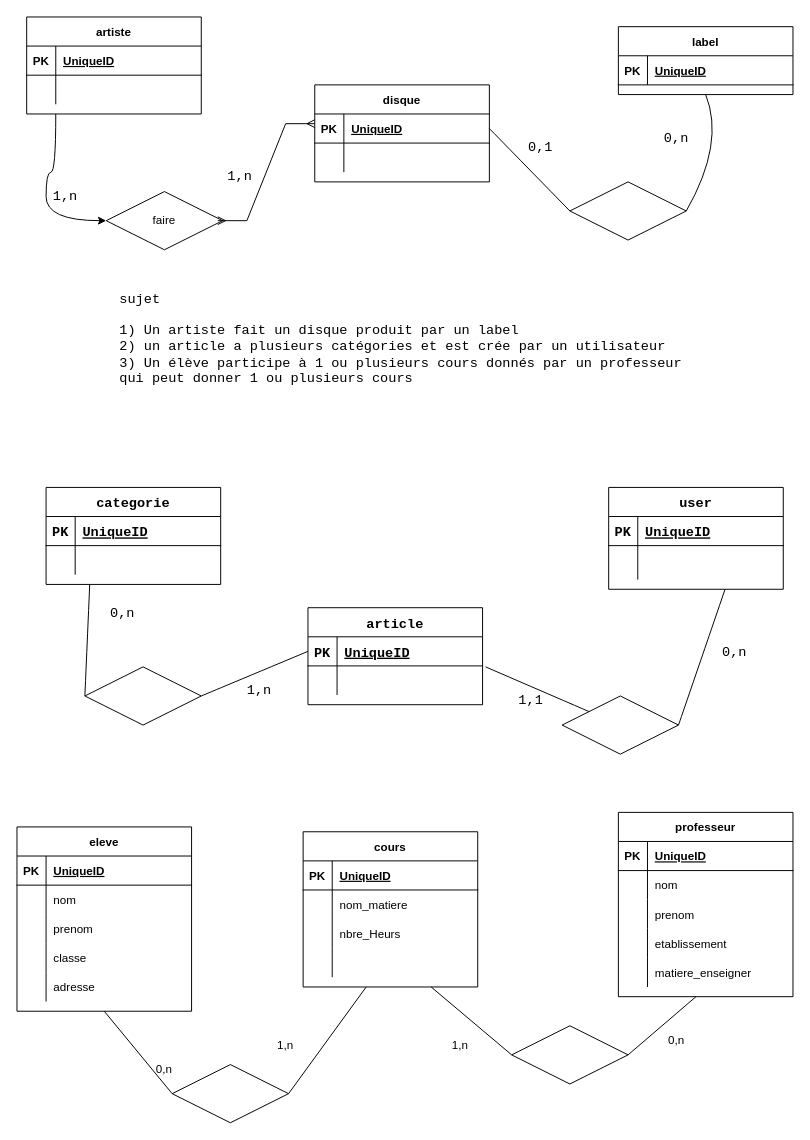
Some shapes in this 810 by 1140 pixel diagram are drawn without their labels. Here are the shapes that lost their labels. From the top down, the centre of each, then its label:
point (627, 210): produit
point (142, 695): posseder
point (620, 724): ecrire
point (569, 1054): dispencer
point (230, 1093): assister
